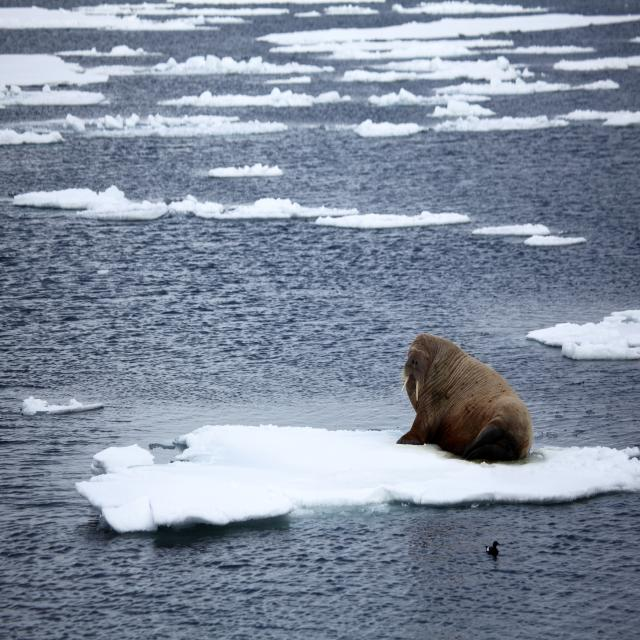walrus: (375, 302, 546, 478)
